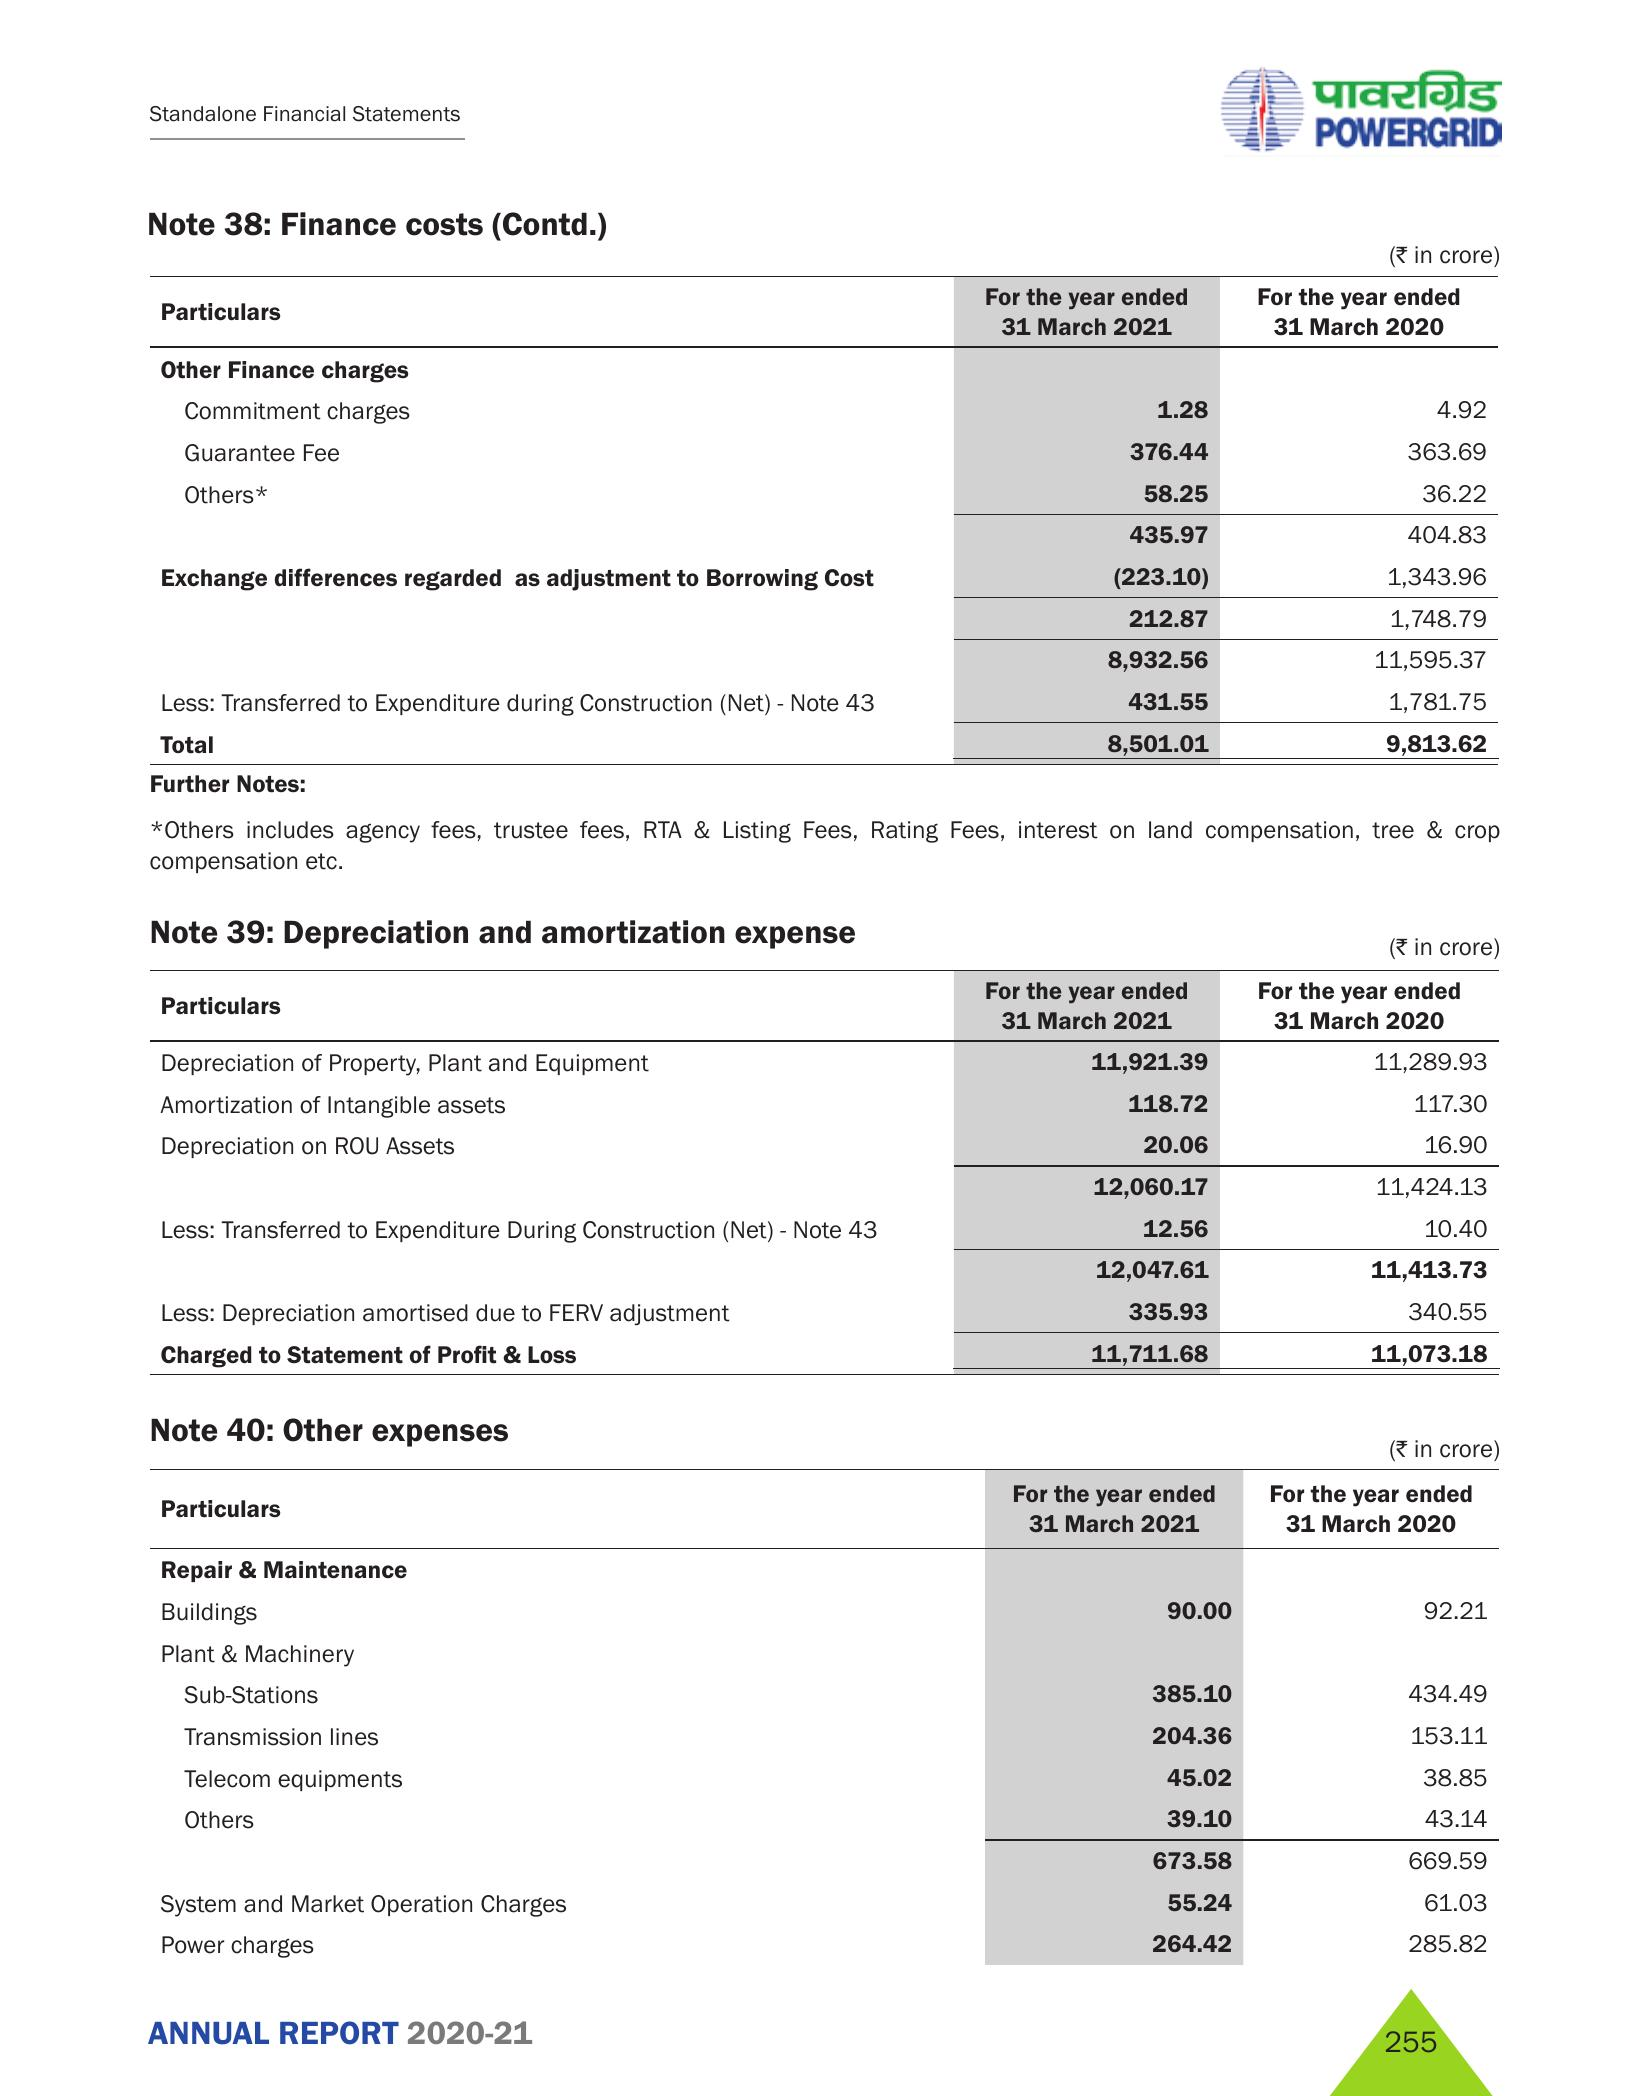Footer: (0, 1953, 1650, 2096)
Header: (0, 0, 1650, 180)
Table: (129, 271, 1511, 767), (139, 1472, 1516, 1962), (134, 953, 1507, 1388)
